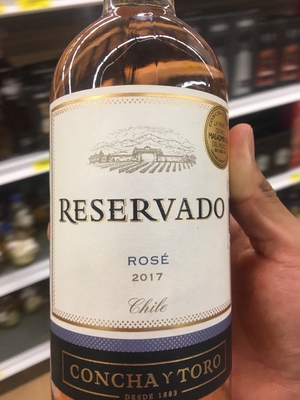reservado rose: (47, 13, 234, 400)
